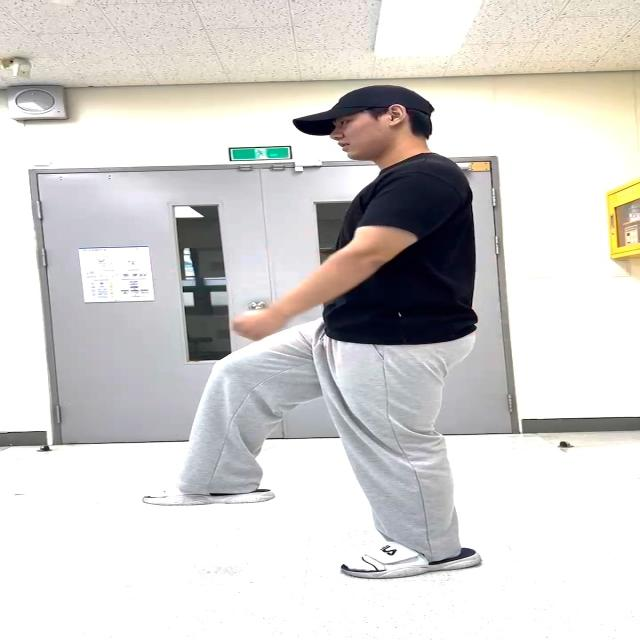leg: (179, 326, 328, 499)
